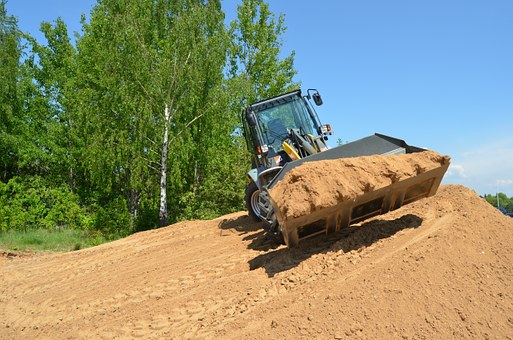excavator: (236, 85, 455, 251)
